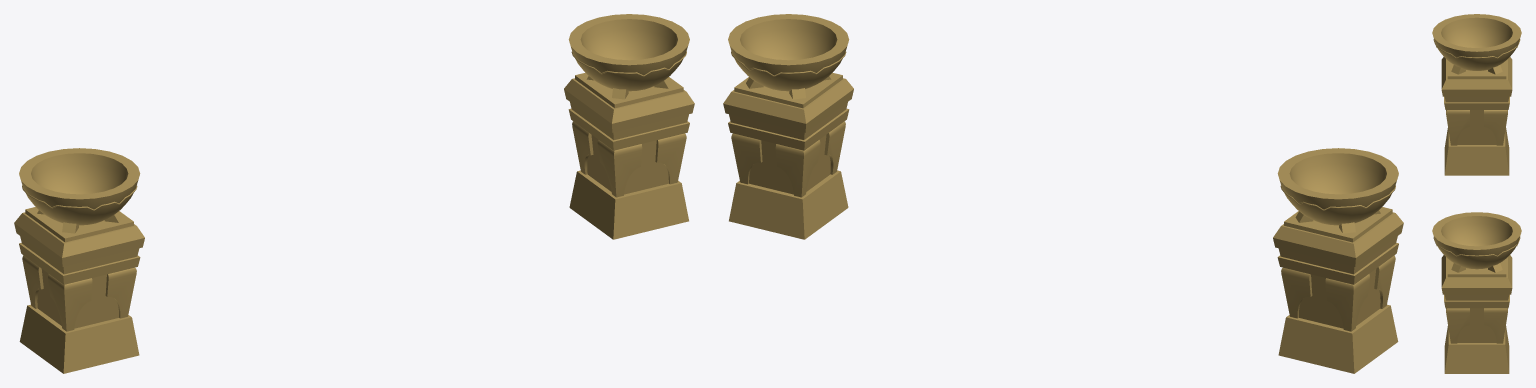
File: fire_pot.gltf
3 renders of one model, left to right at view 1: azimuth 30°, elevation 25°; view 2: azimuth 150°, elevation 25°; view 3: azimuth 270°, elevation 25°, orthographic. The views are drawn at different scales.
Parts seen in each view (by area): view 1: altar_altar_0.001, altar_altar_0, bowl_bowl_0, bowl_bowl_0.001; view 2: altar_altar_0.001, altar_altar_0, bowl_bowl_0, bowl_bowl_0.001; view 3: altar_altar_0, altar_altar_0.001, bowl_bowl_0.001, bowl_bowl_0.
Boxes of the visible parts, x1,y1,x2,y2 form: altar_altar_0.001: [564, 72, 694, 239]; altar_altar_0: [14, 207, 144, 373]; bowl_bowl_0: [19, 148, 140, 233]; bowl_bowl_0.001: [568, 14, 689, 99]; altar_altar_0.001: [723, 72, 853, 239]; altar_altar_0: [1273, 207, 1403, 373]; bowl_bowl_0: [1277, 148, 1398, 233]; bowl_bowl_0.001: [728, 14, 849, 99]; altar_altar_0: [1441, 57, 1512, 175]; altar_altar_0.001: [1441, 255, 1512, 373]; bowl_bowl_0.001: [1432, 212, 1521, 272]; bowl_bowl_0: [1432, 14, 1521, 74].
Bounding box in the file's own units: 9.2 × 2.35 × 1.48.
4 materials, 4 textured.
